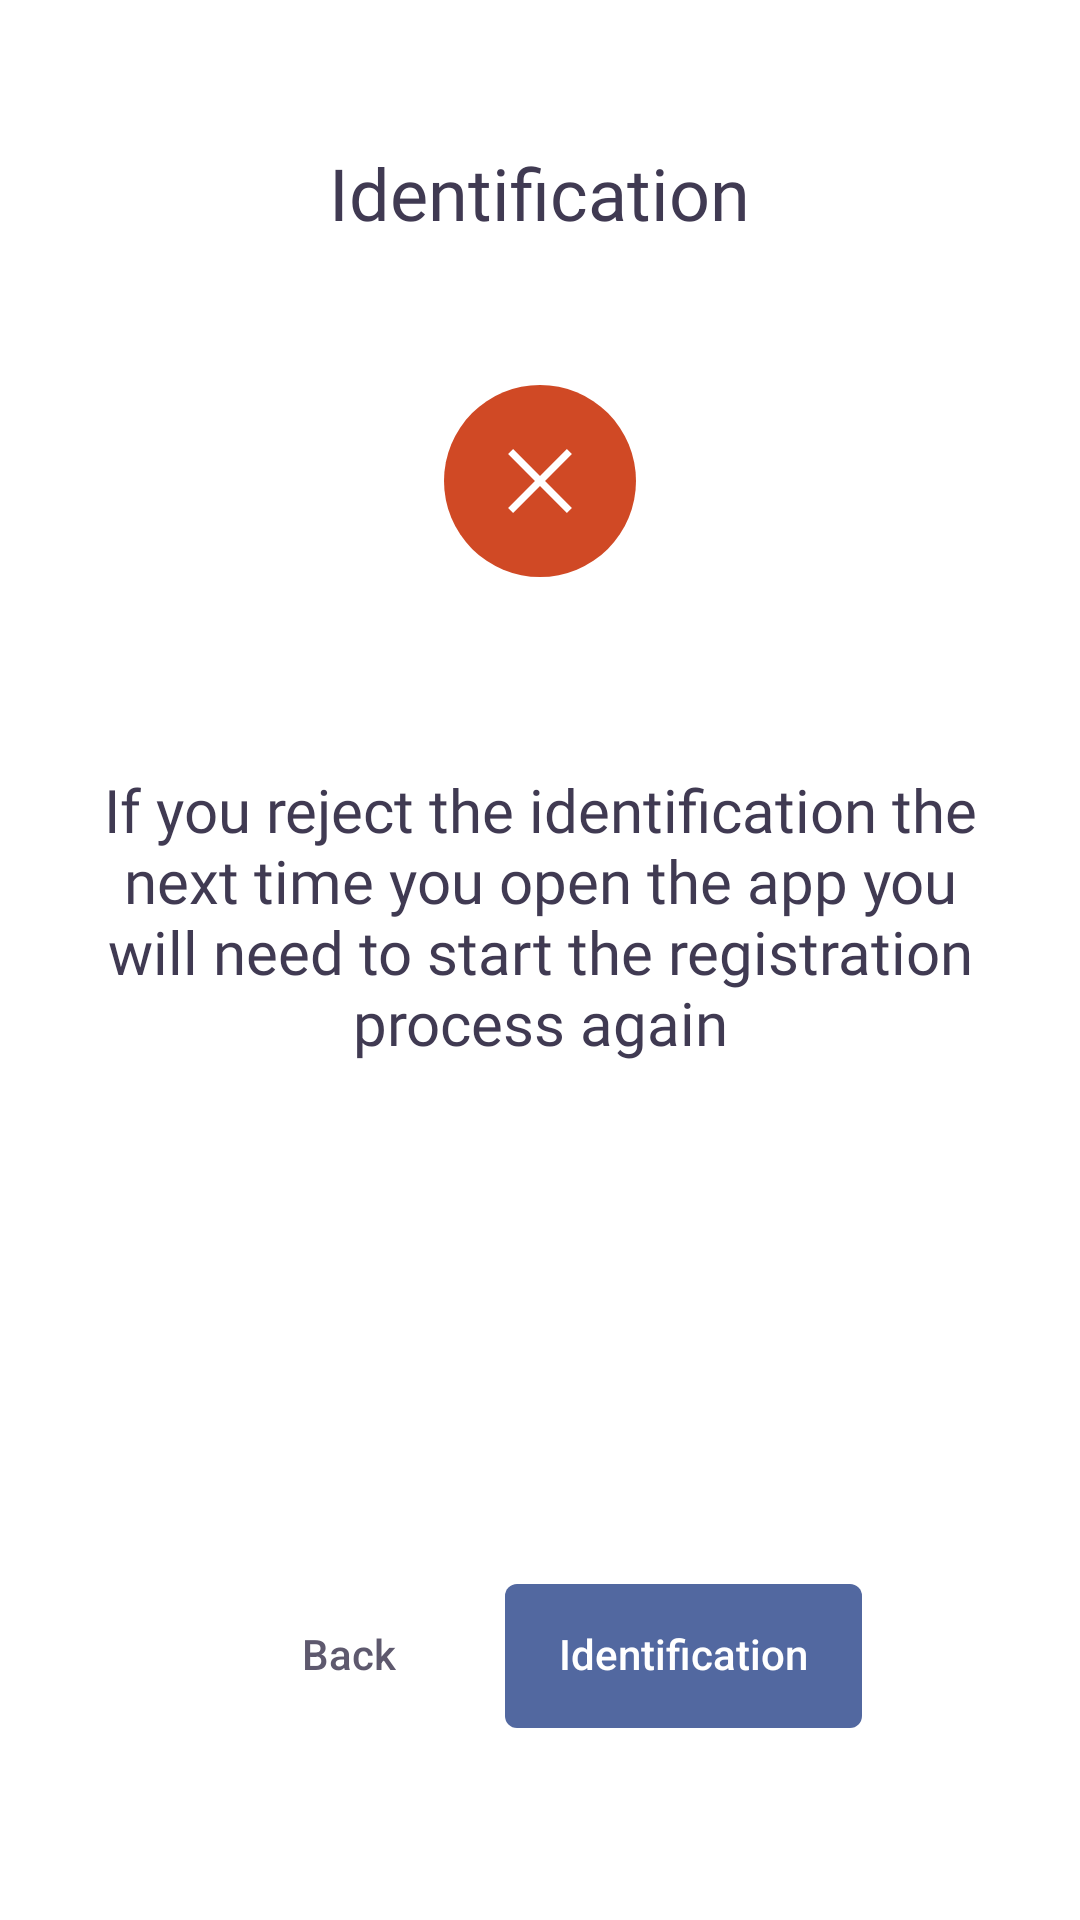

Named icons in this screenshot (1080×1920) and their bounding boxes, (x1, y1, x2, y2):
error: (444, 385, 636, 577)
